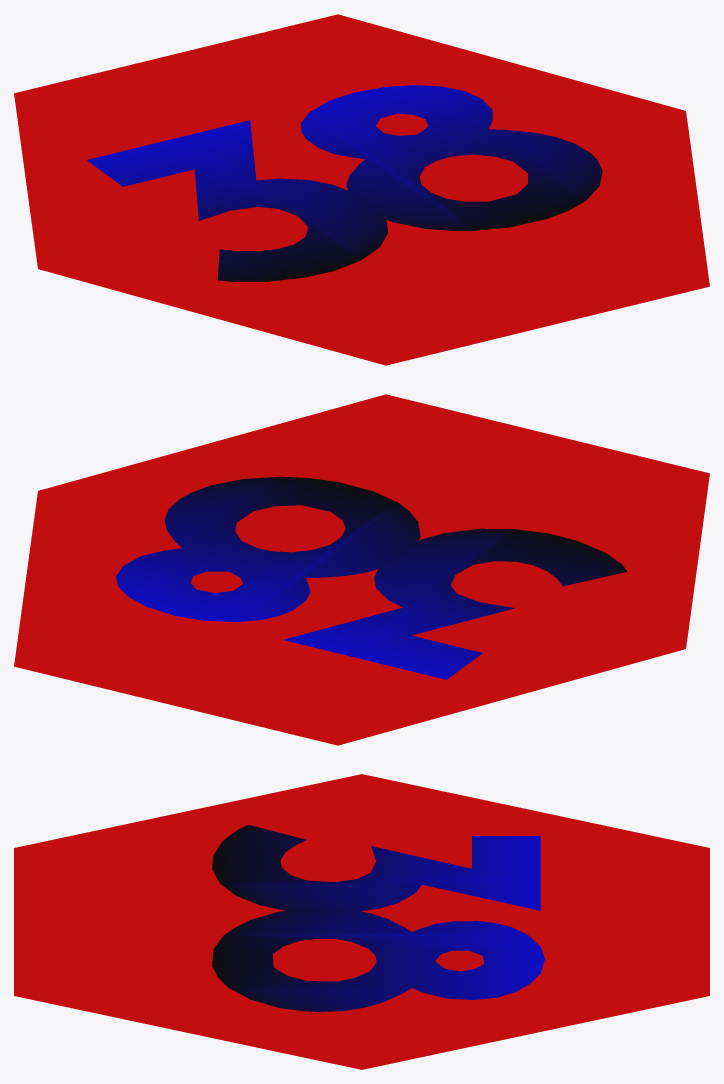
The model's file is SM_Number_38.fbx.
The picture shows the model from 3 angles, top to bottom: view 1: azimuth 30°, elevation 25°; view 2: azimuth 150°, elevation 25°; view 3: azimuth 270°, elevation 25°; orthographic projection. The views are drawn at different scales.
Visible parts, largest first — view 1: FBX_OUT; view 2: FBX_OUT; view 3: FBX_OUT.
Part boxes in pixels (x1,y1,x2,y2): FBX_OUT: (14, 14, 709, 365); FBX_OUT: (14, 394, 709, 745); FBX_OUT: (14, 774, 709, 1069).
Size of the model in its own units: 50 by 0.2917 by 49.71.
